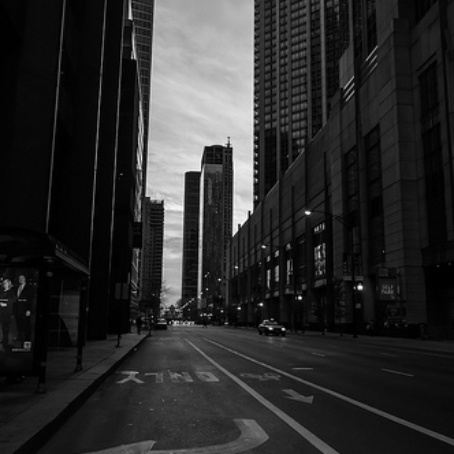building: (248, 1, 454, 319), (1, 1, 154, 340), (179, 135, 231, 324)
car: (254, 313, 287, 339)
sky: (152, 1, 249, 175)
street: (48, 312, 454, 454)
